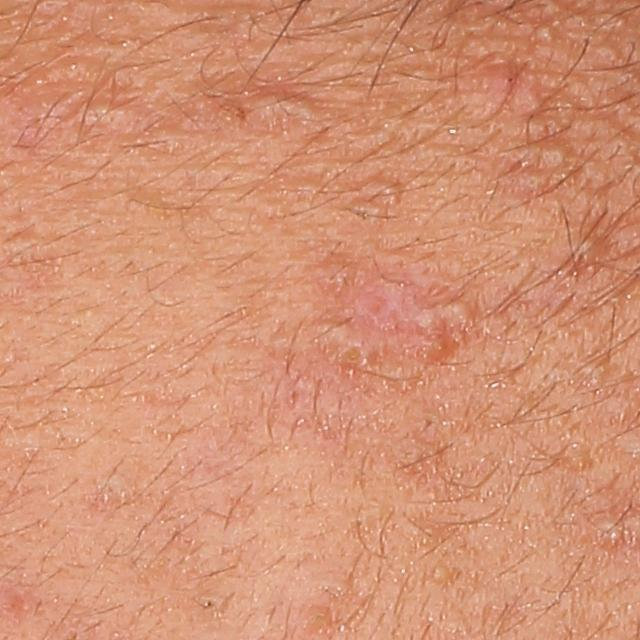comedo: (243, 84, 316, 135), (83, 87, 143, 132), (470, 66, 515, 117), (532, 141, 572, 178), (358, 178, 402, 208), (575, 227, 600, 269), (529, 21, 559, 51), (520, 86, 542, 120), (448, 294, 474, 321), (431, 562, 456, 587)
papule: (329, 322, 385, 370), (402, 323, 455, 365)
